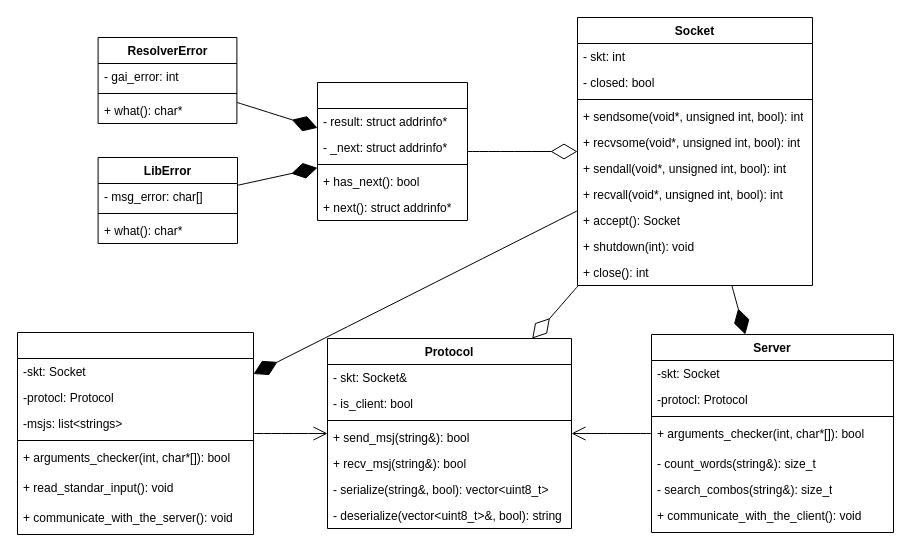
Some shapes in this 911 by 555 pixel diagram are drawn without their labels. Here are the shapes that lost their labels. From the top down, the box of each, then its label:
(316, 82, 468, 220): Resolver
(16, 332, 254, 534): Client
